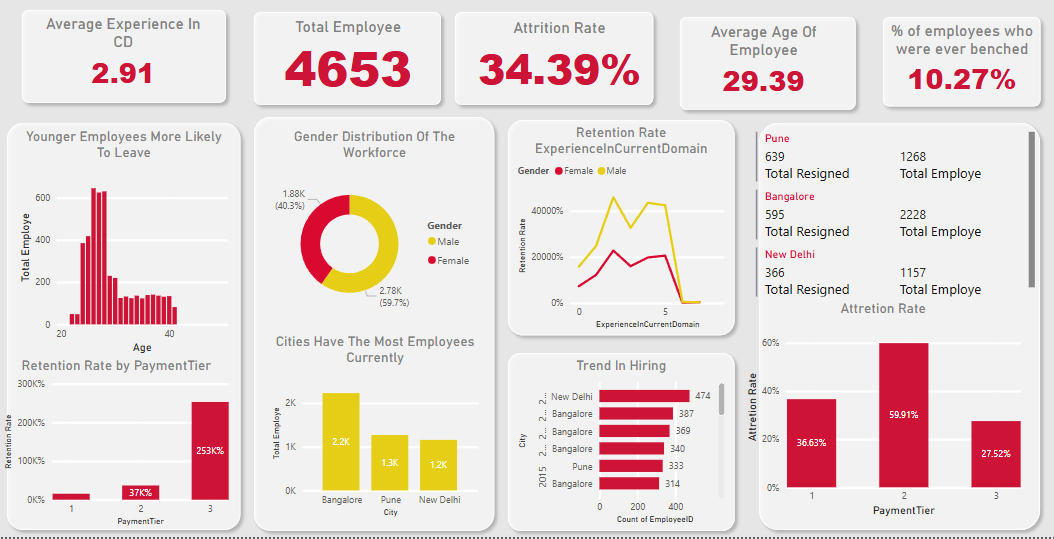

Layout of this report page (visuals, bound fields, positions):
{"tool":"powerbi","page":{"name":"Page 1","canvas":[1384,711],"ordinal":0},"visuals":[{"type":"shape","box":[0,159.2,324.4,552.1],"z":0},{"type":"shape","box":[324.4,13.4,263.4,139.9],"z":1000},{"type":"shape","box":[587.8,13.4,278.3,139.9],"z":2000},{"type":"shape","box":[882.5,19.3,248.5,139.9],"z":3000},{"type":"shape","box":[324.4,150.3,333.4,561],"z":4000},{"type":"shape","box":[657.8,154.8,315.5,300.6],"z":5000},{"type":"shape","box":[657.8,459.8,315.5,251.5],"z":6000},{"type":"shape","box":[19.3,10.4,285.7,139.9],"z":7000},{"type":"shape","box":[1148.9,19.3,224.7,135.4],"z":8000},{"type":"shape","box":[986.7,159.2,386.9,552.1],"z":9000},{"type":"card","title":"Total Employee","fields":{"Values":["Employee.Total Employe"]},"box":[343.8,29.8,226.2,101.2],"z":10000},{"type":"card","title":"Attrition Rate","fields":{"Values":["Employee.Attretion Rate"]},"box":[602.7,31.3,263.4,102.7],"z":11000},{"type":"card","title":"% of employees who were ever benched ","fields":{"Values":["Employee.% Ever Benched"]},"box":[1150.4,35.7,223.2,102.7],"z":12000},{"type":"card","title":"Average Age Of Employee","fields":{"Values":["Avg(Employee.Age)"]},"box":[894.4,37.2,214.3,104.2],"z":13000},{"type":"card","title":"Average Experience In CD","fields":{"Values":["Avg(Employee.ExperienceInCurrentDomain)"]},"box":[47.6,26.8,229.2,104.2],"z":14000},{"type":"clusteredColumnChart","title":"Attretion Rate ","fields":{"Category":["Employee.PaymentTier"],"Y":["Employee.Attretion Rate"]},"box":[973.3,400.3,370.6,288.7],"z":15000},{"type":"lineChart","title":"Retention Rate  ExperienceInCurrentDomain","fields":{"Category":["Employee.ExperienceInCurrentDomain"],"Series":["Employee.Gender"],"Y":["Employee.Retention Rate"]},"box":[674.1,169.7,281.3,273.8],"z":16000},{"type":"donutChart","title":"Gender Distribution Of The Workforce","fields":{"Category":["Employee.Gender"],"Y":["CountNonNull(Employee.EmployeeID)"]},"box":[351.2,174.1,279.8,261.9],"z":17000},{"type":"columnChart","title":"Cities Have The Most Employees Currently","fields":{"Y":["Employee.Total Employe"],"Category":["Employee.City"]},"box":[351.2,443.5,281.3,245.5],"z":18000},{"type":"barChart","title":"Trend In Hiring","fields":{"Category":["Employee.JoiningYear","Employee.City"],"Y":["CountNonNull(Employee.EmployeeID)"]},"box":[674.1,474.7,281.3,223.2],"z":19000},{"type":"columnChart","title":"Younger Employees More Likely To Leave","fields":{"Category":["Employee.Age"],"Y":["Employee.Total Employe"]},"box":[19.3,174.1,285.7,300.6],"z":20000},{"type":"columnChart","fields":{"Category":["Employee.PaymentTier"],"Y":["Employee.Retention Rate"]},"box":[0,474.7,305.1,226.2],"z":21000},{"type":"multiRowCard","fields":{"Values":["Employee.Total Resigned","Employee.City","Employee.Total Employe"]},"box":[986.7,174.1,376.5,226.2],"z":22000}]}

Visuals, with their boxes in screenshot pixels (x1, y1, x2, y2), scaled from the page's 1384x711 canvas onto the 1054x539 screenshot:
shape: pyautogui.locateOnScreen(0, 121, 247, 538)
shape: pyautogui.locateOnScreen(247, 10, 448, 116)
shape: pyautogui.locateOnScreen(448, 10, 660, 116)
shape: pyautogui.locateOnScreen(672, 15, 861, 121)
shape: pyautogui.locateOnScreen(247, 114, 501, 538)
shape: pyautogui.locateOnScreen(501, 117, 741, 345)
shape: pyautogui.locateOnScreen(501, 349, 741, 538)
shape: pyautogui.locateOnScreen(15, 8, 232, 114)
shape: pyautogui.locateOnScreen(875, 15, 1046, 117)
shape: pyautogui.locateOnScreen(751, 121, 1046, 538)
"Total Employee" card: pyautogui.locateOnScreen(262, 23, 434, 99)
"Attrition Rate" card: pyautogui.locateOnScreen(459, 24, 660, 102)
"% of employees who were ever benched " card: pyautogui.locateOnScreen(876, 27, 1046, 105)
"Average Age Of Employee" card: pyautogui.locateOnScreen(681, 28, 844, 107)
"Average Experience In CD" card: pyautogui.locateOnScreen(36, 20, 211, 99)
"Attretion Rate " clusteredColumnChart: pyautogui.locateOnScreen(741, 303, 1023, 522)
"Retention Rate  ExperienceInCurrentDomain" lineChart: pyautogui.locateOnScreen(513, 129, 728, 336)
"Gender Distribution Of The Workforce" donutChart: pyautogui.locateOnScreen(267, 132, 481, 331)
"Cities Have The Most Employees Currently" columnChart: pyautogui.locateOnScreen(267, 336, 482, 522)
"Trend In Hiring" barChart: pyautogui.locateOnScreen(513, 360, 728, 529)
"Younger Employees More Likely To Leave" columnChart: pyautogui.locateOnScreen(15, 132, 232, 360)
columnChart - Employee.PaymentTier x Employee.Retention Rate: pyautogui.locateOnScreen(0, 360, 232, 531)
multiRowCard - Employee.Total Resigned x Employee.City: pyautogui.locateOnScreen(751, 132, 1038, 303)
